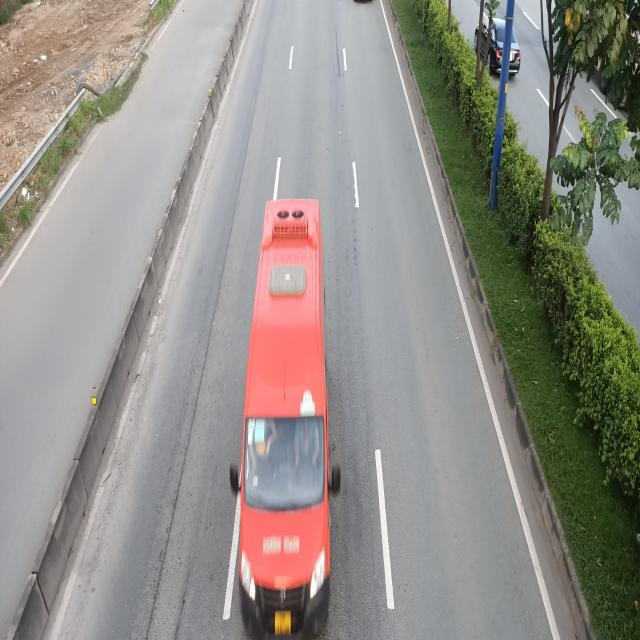van: (232, 198, 341, 627)
